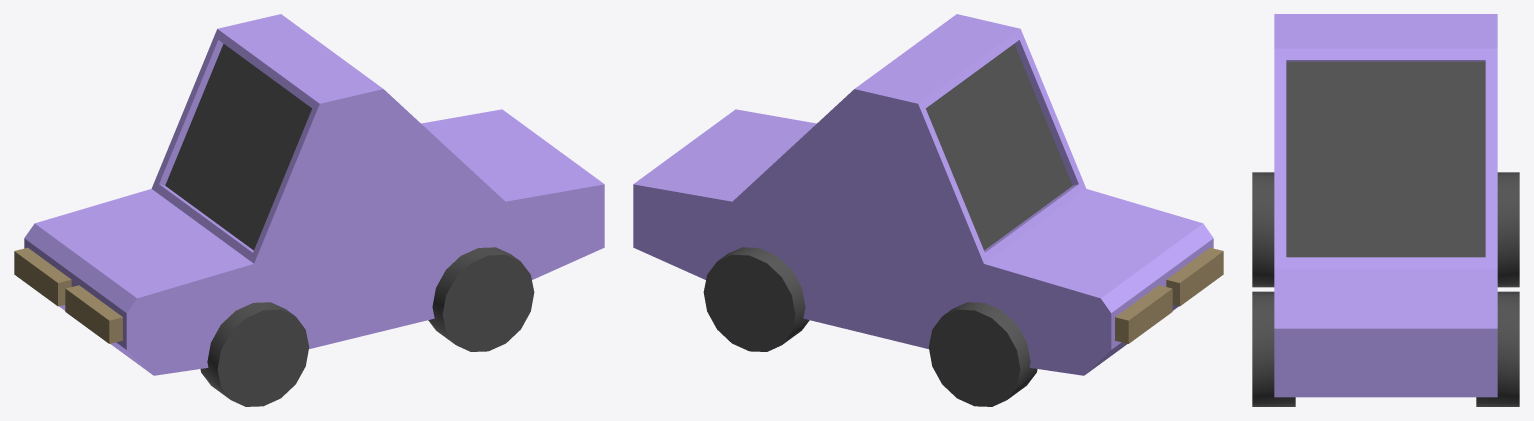
File: car-custom-purple.glb
The picture shows the model from 3 angles, left to right: view 1: azimuth 30°, elevation 25°; view 2: azimuth 150°, elevation 25°; view 3: azimuth 270°, elevation 25°; orthographic projection. The views are drawn at different scales.
Visible parts, largest first — view 1: Cube, WINDHIELD, Cylinder, Cylinder 1, lights; view 2: Cube, WINDHIELD, Cylinder 2, Cylinder 3, lights; view 3: Cube, WINDHIELD, Cylinder 1, Cylinder 3, Cylinder 2, Cylinder.
Boxes of the visible parts, x1=… form: Cube: x1=24, y1=14, x2=604, y2=375; WINDHIELD: x1=165, y1=43, x2=311, y2=250; Cylinder: x1=200, y1=302, x2=309, y2=406; Cylinder 1: x1=428, y1=247, x2=534, y2=351; lights: x1=14, y1=247, x2=122, y2=343; Cube: x1=633, y1=14, x2=1213, y2=375; WINDHIELD: x1=926, y1=43, x2=1072, y2=250; Cylinder 2: x1=928, y1=302, x2=1037, y2=406; Cylinder 3: x1=703, y1=247, x2=809, y2=351; lights: x1=1115, y1=247, x2=1223, y2=343; Cube: x1=1274, y1=14, x2=1497, y2=397; WINDHIELD: x1=1286, y1=61, x2=1485, y2=257; Cylinder 1: x1=1252, y1=291, x2=1295, y2=406; Cylinder 3: x1=1476, y1=291, x2=1519, y2=406; Cylinder 2: x1=1497, y1=172, x2=1519, y2=287; Cylinder: x1=1252, y1=172, x2=1274, y2=287.
Size of the model in its own units: 0.1444 by 0.0782 by 0.0625.
